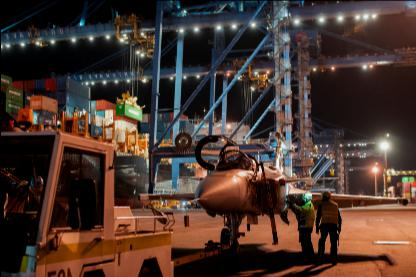JAS39: (138, 121, 408, 265)
